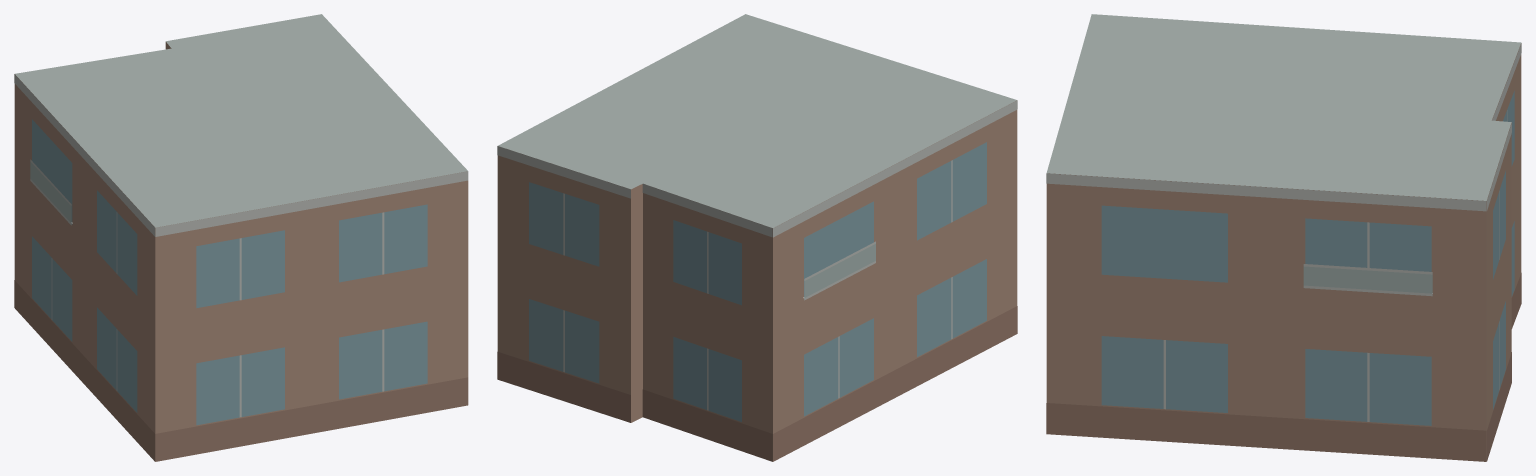
The model's file is survey-upis-32812502.glb.
3 views of the same model, side by side, from view 1: azimuth 30°, elevation 25°; view 2: azimuth 150°, elevation 25°; view 3: azimuth 270°, elevation 25° (orthographic). The views are drawn at different scales.
Visible parts, largest first — view 1: survey-upis-32812502.tmp; view 2: survey-upis-32812502.tmp; view 3: survey-upis-32812502.tmp.
Boxes of the visible parts, box(x1,y1,x2,y2) form: survey-upis-32812502.tmp: box(14, 14, 468, 461); survey-upis-32812502.tmp: box(497, 14, 1017, 461); survey-upis-32812502.tmp: box(1046, 14, 1521, 461).
Bounding box in the file's own units: 9.38 × 6.1 × 10.08.
